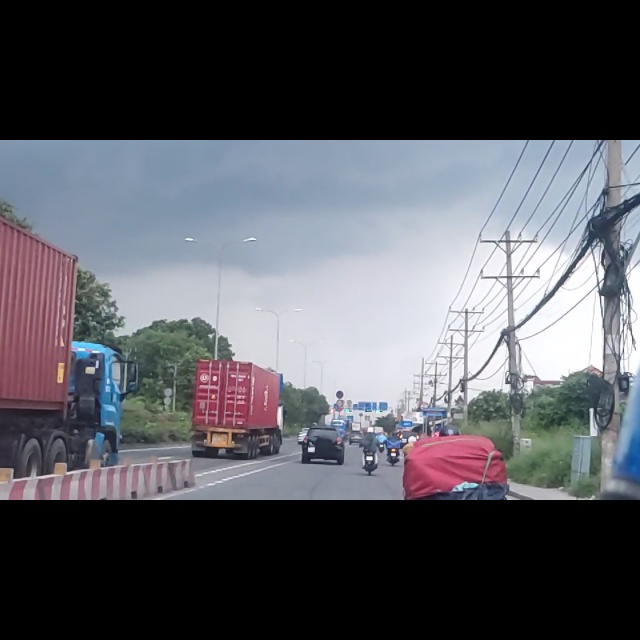bien_chi_dan: (335, 445, 345, 460)
